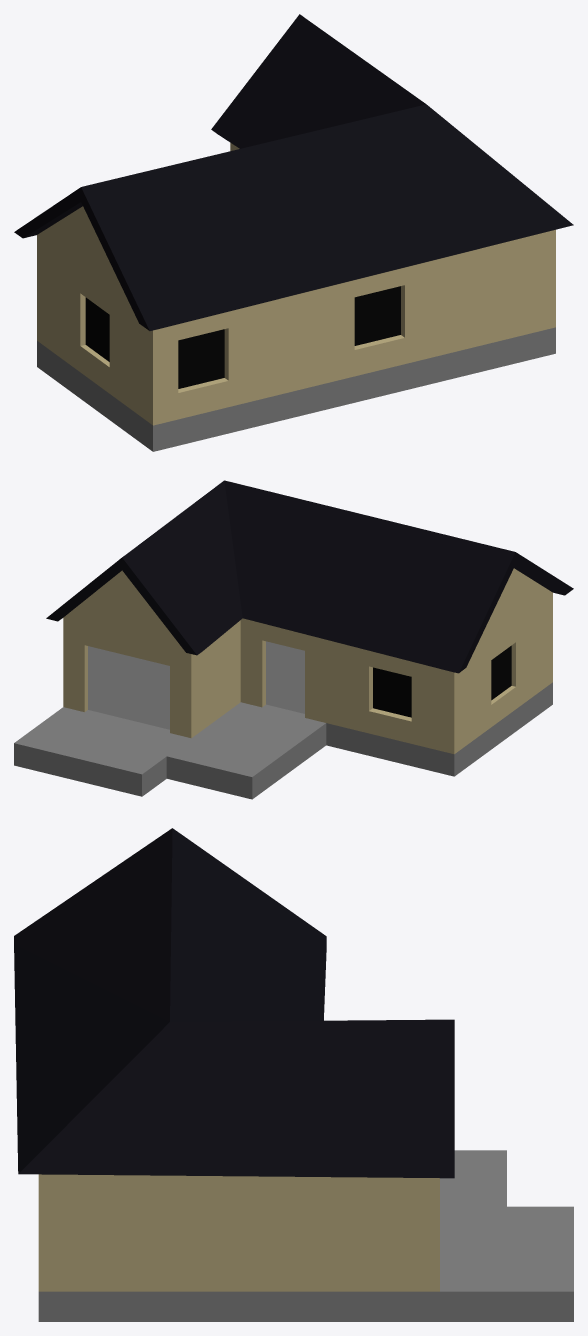
The model's file is House1.fbx.
The picture shows the model from 3 angles, top to bottom: view 1: azimuth 30°, elevation 25°; view 2: azimuth 150°, elevation 25°; view 3: azimuth 270°, elevation 25°; orthographic projection. The views are drawn at different scales.
Visible parts, largest first — view 1: Cube.002; view 2: Cube.002; view 3: Cube.002.
Boxes of the visible parts, <box> form: Cube.002: <box>14,14,573,451</box>; Cube.002: <box>14,480,573,799</box>; Cube.002: <box>14,828,573,1321</box>.
Bounding box in the file's own units: 1712 × 857 × 1674.
